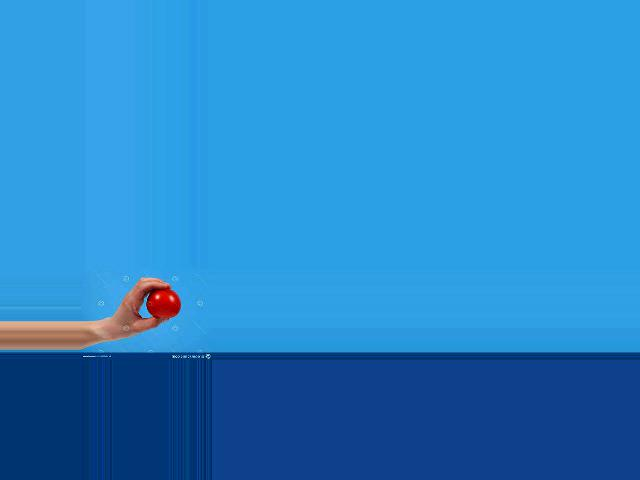tomato: (146, 288, 180, 318)
